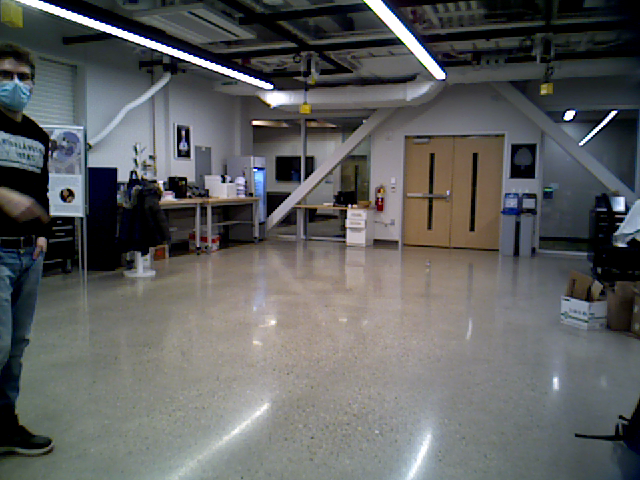painting1: (506, 143, 540, 177)
painting2: (171, 120, 192, 159)
